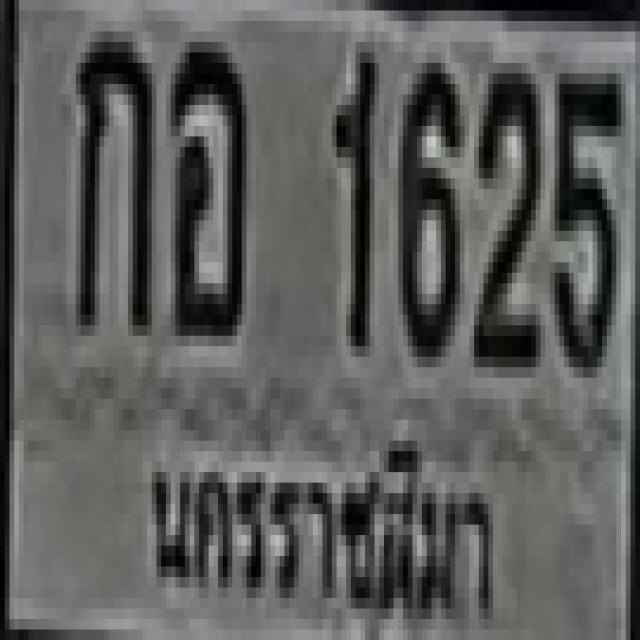1: (332, 42, 374, 346)
2: (469, 52, 536, 357)
5: (550, 63, 616, 367)
6: (394, 52, 455, 346)
A01: (74, 21, 150, 325)
A43: (166, 32, 242, 326)
NMA: (137, 416, 504, 640)
